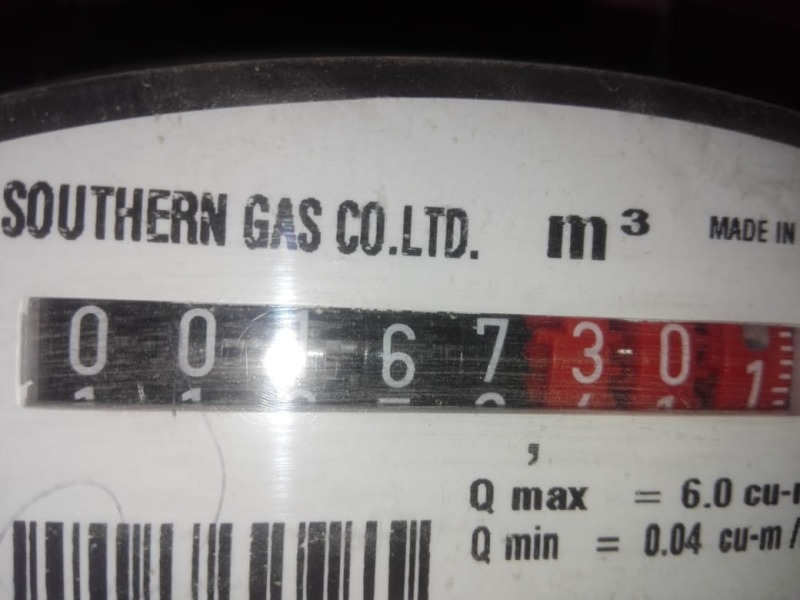ssgc: (14, 292, 799, 419)
